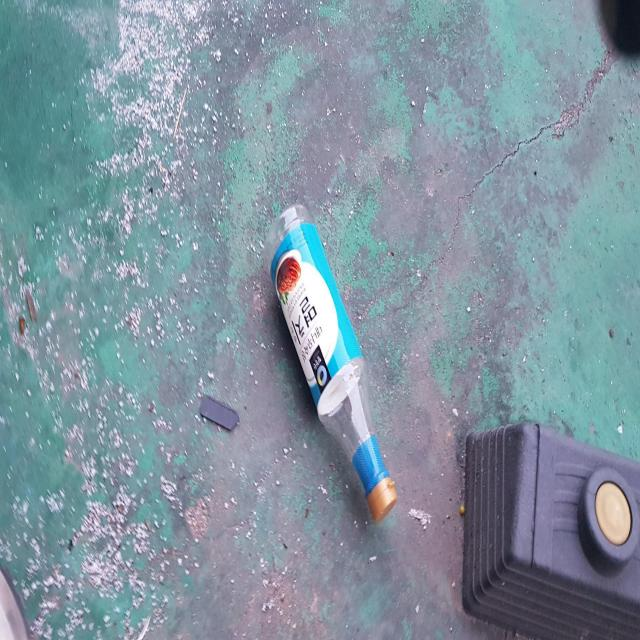plastic: (264, 204, 398, 523)
